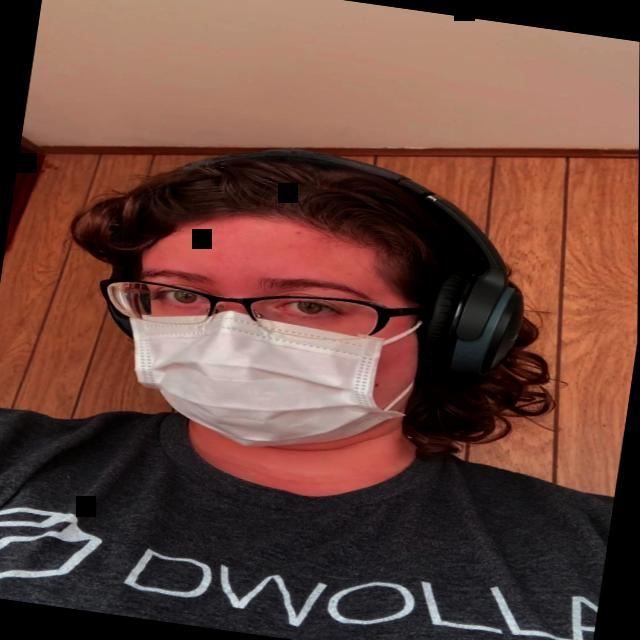Mask: (113, 194, 449, 466)
